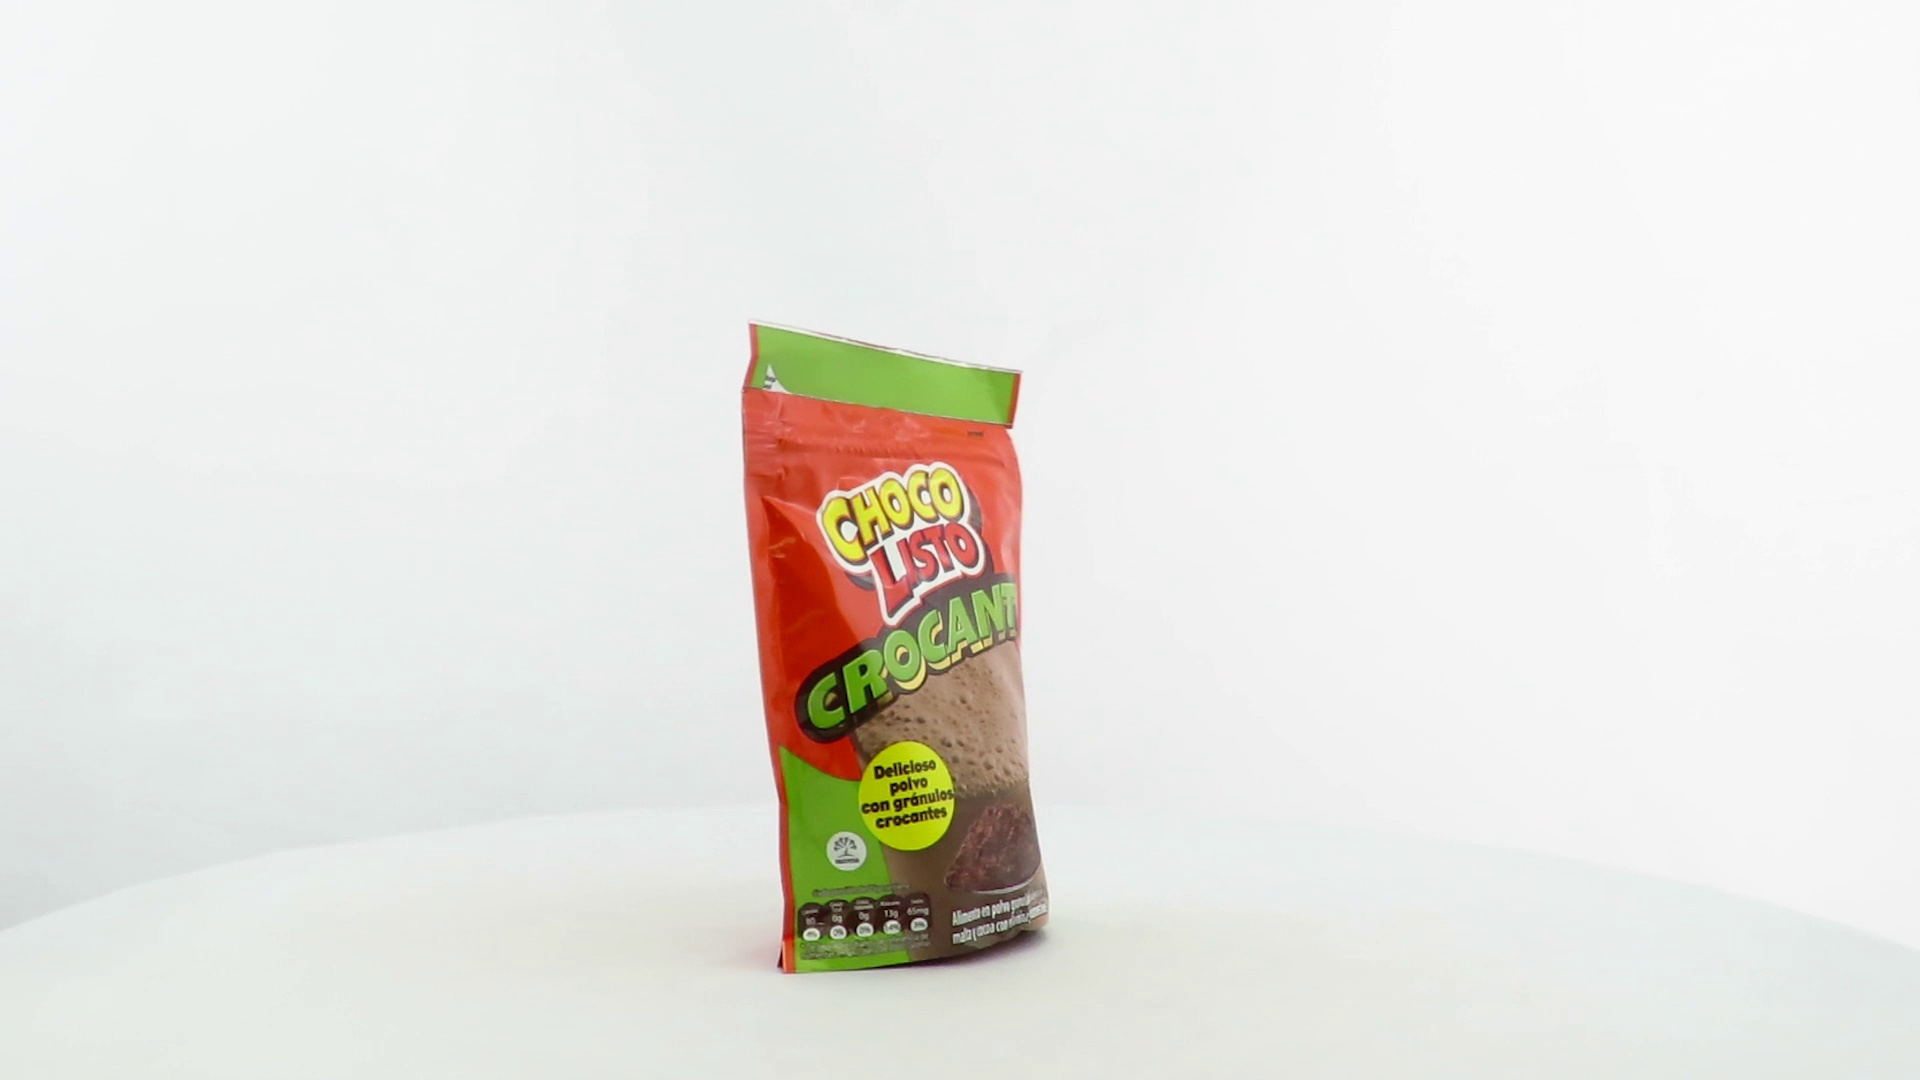COL0170102DYP10000: (736, 313, 1055, 981)
